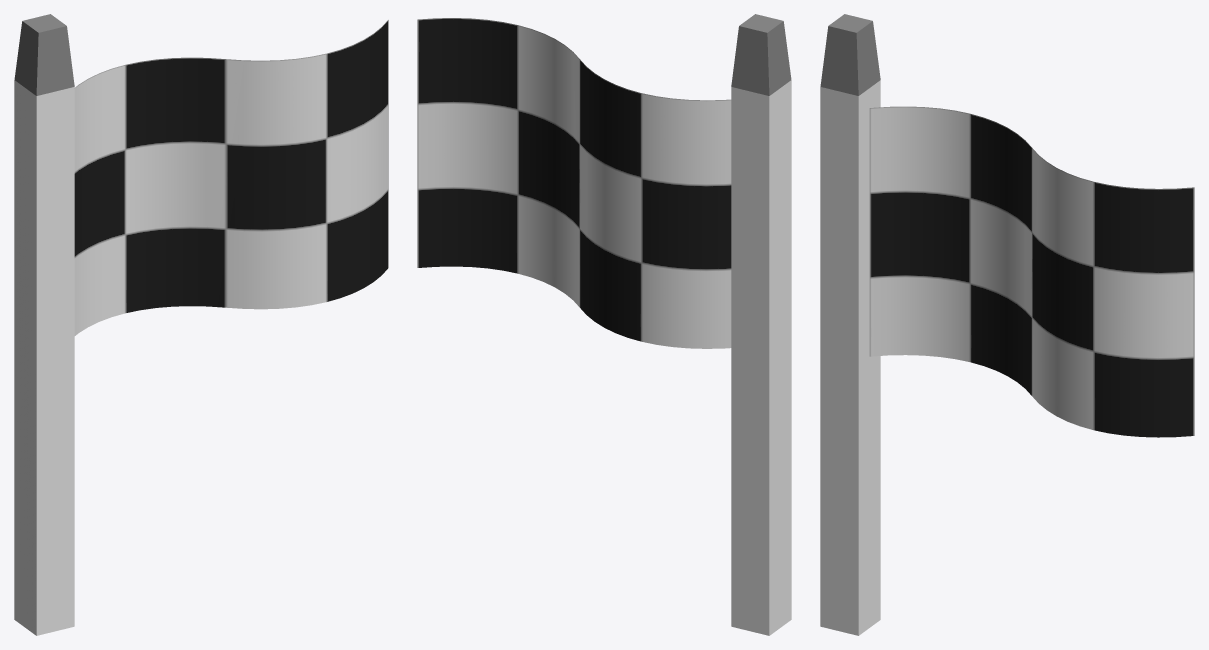
Rendered from flagCheckersSmall.glb.
3 renders of one model, left to right at view 1: azimuth 30°, elevation 25°; view 2: azimuth 150°, elevation 25°; view 3: azimuth 330°, elevation 25°, orthographic.
Parts seen in each view (by area): view 1: flagCheckersSmall(Clone); view 2: flagCheckersSmall(Clone); view 3: flagCheckersSmall(Clone).
Part boxes in pixels (x1,y1,x2,y2): flagCheckersSmall(Clone): [14, 14, 388, 635]; flagCheckersSmall(Clone): [417, 14, 791, 635]; flagCheckersSmall(Clone): [820, 14, 1194, 635].
Bounding box in the file's own units: 0.19 × 0.3 × 0.0352.
4 materials, 1 textured.
